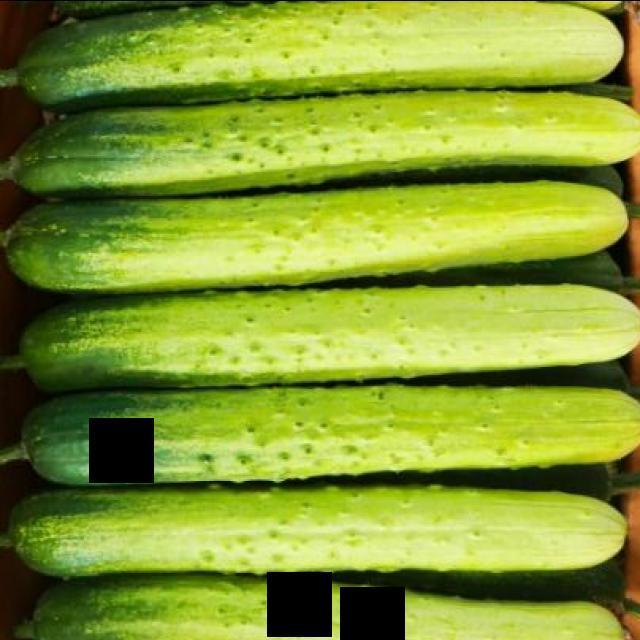cucumber: (0, 0, 640, 640), (0, 208, 640, 316), (0, 386, 640, 492), (0, 6, 640, 104), (0, 572, 640, 640)
